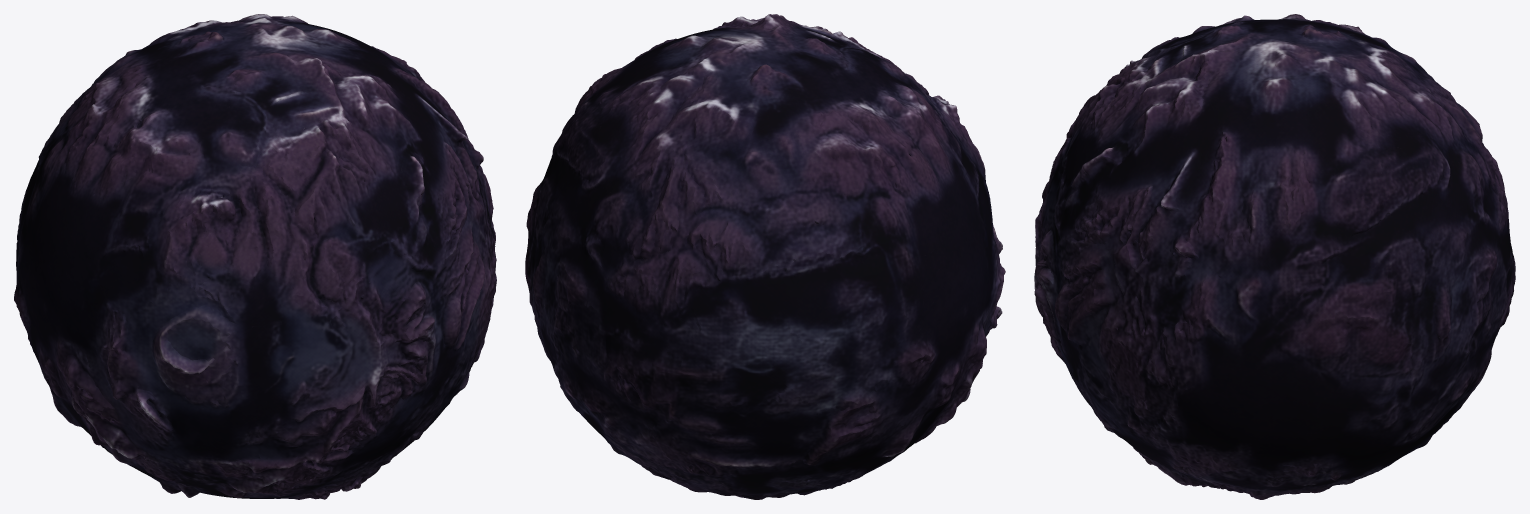
The picture shows the model from 3 angles, left to right: view 1: azimuth 30°, elevation 25°; view 2: azimuth 150°, elevation 25°; view 3: azimuth 270°, elevation 25°; orthographic projection.
Visible parts, largest first — view 1: world; view 2: world; view 3: world.
Part boxes in pixels (<box>): world: <box>14,14,496,499</box>; world: <box>525,14,1005,499</box>; world: <box>1034,14,1515,499</box>.
Size of the model in its own units: 0.9953 by 1 by 1.
Materials: 1 (1 with a texture image).
